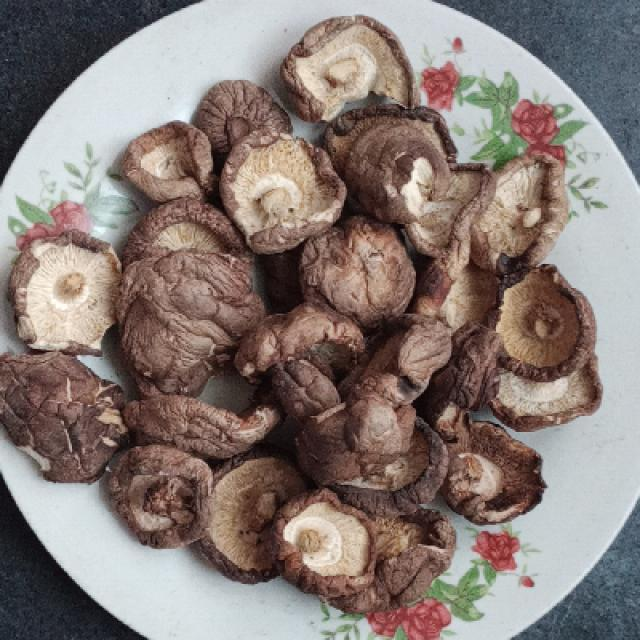Lentinus edodes: (122, 251, 258, 379), (308, 380, 444, 506), (6, 226, 126, 352), (206, 455, 319, 586), (6, 351, 126, 472), (223, 134, 346, 251), (281, 12, 413, 120), (493, 261, 597, 380), (274, 490, 387, 588), (114, 438, 211, 549), (481, 152, 568, 274), (446, 421, 549, 523), (303, 227, 415, 318), (138, 384, 280, 446), (113, 125, 216, 199)
